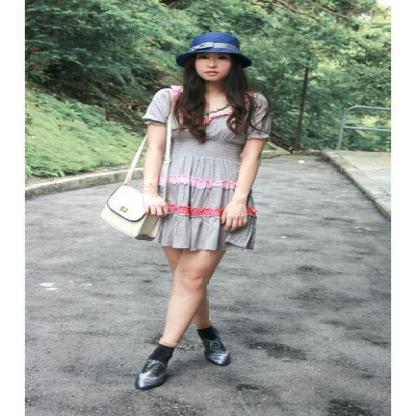bag: (101, 186, 174, 240)
dress: (142, 82, 263, 250)
hat: (162, 30, 251, 70)
shoe: (137, 344, 230, 389)
